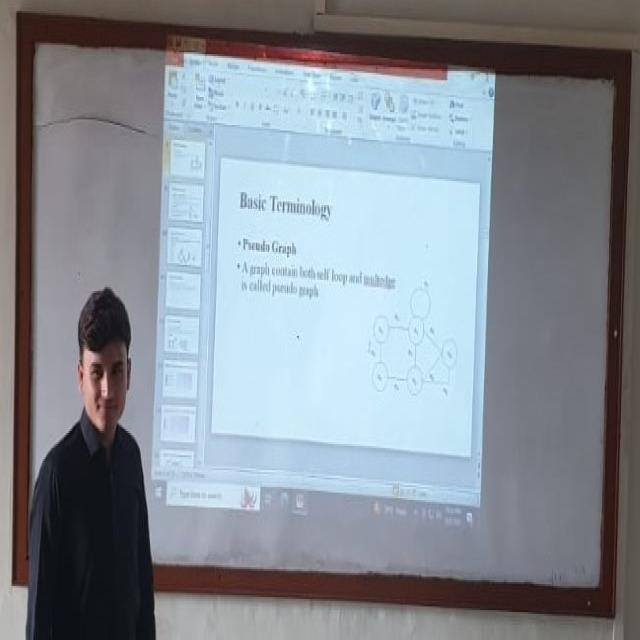Instructor: (36, 237, 152, 640)
Slide: (147, 36, 499, 534)
White-board: (20, 19, 630, 612)
